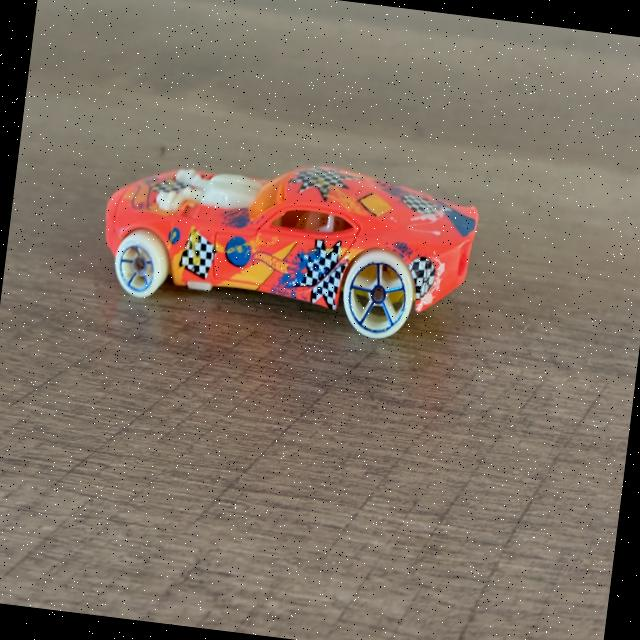cars: (74, 124, 494, 338), (95, 146, 478, 354)
